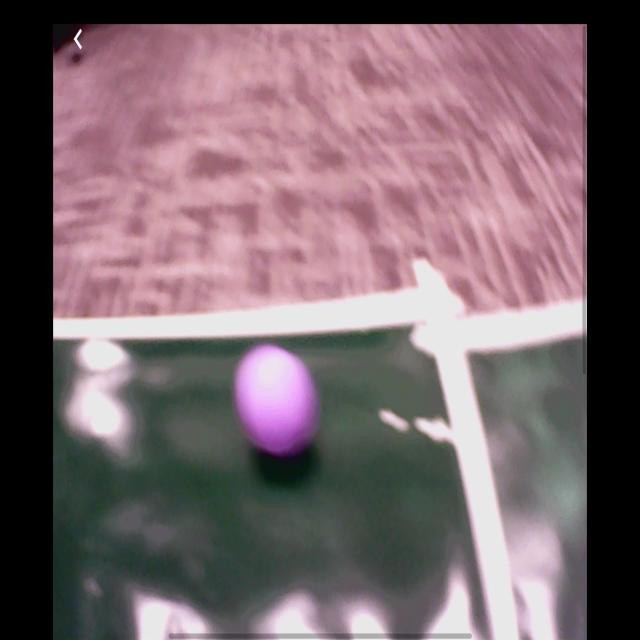ball: (235, 345, 319, 460)
